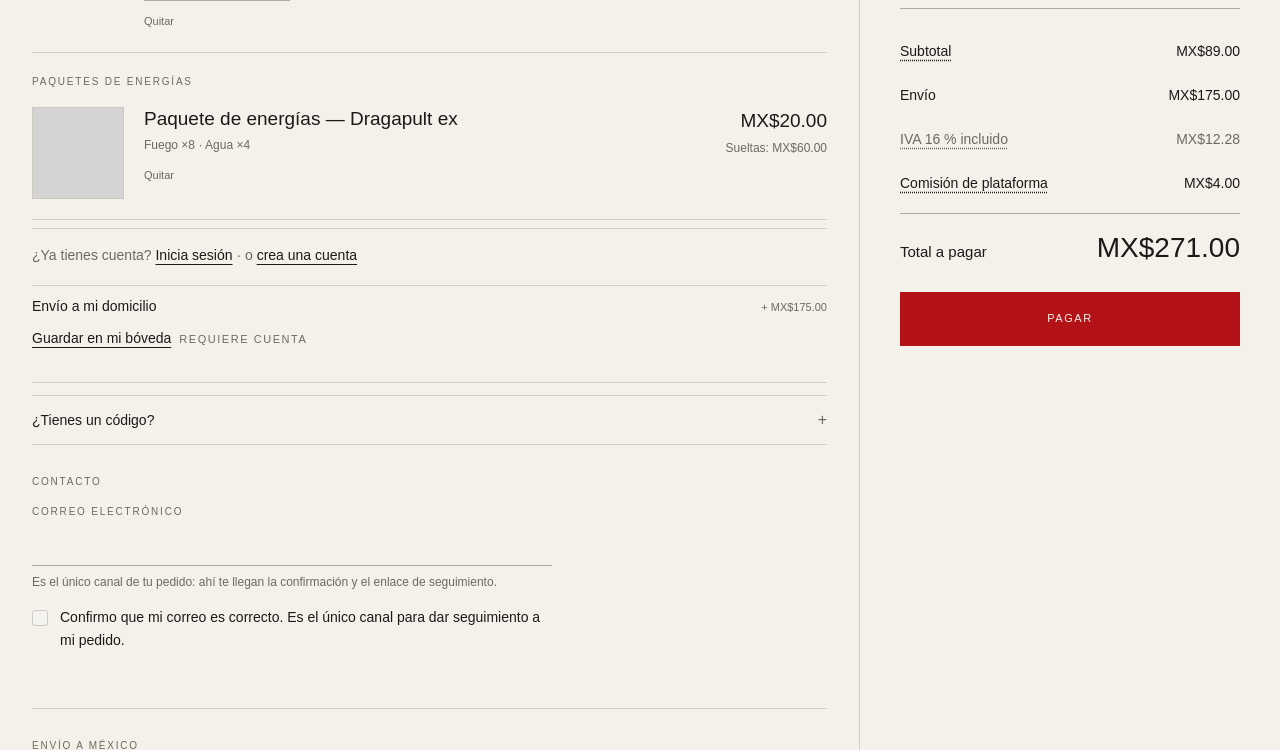
Test: AC-UX-9 (AC-F8) · bóveda con accesorios › vaultExcludesAccessories ⇒ aviso con {n} y {amount} de la cotización; los accesorios se quedan en el carrito
The image size is (1280, 750).
(page scrolled)
Click the button "Guardar en mi bóveda REQUIERE CUENTA".
click(102, 338)  # box [32,328,827,372]
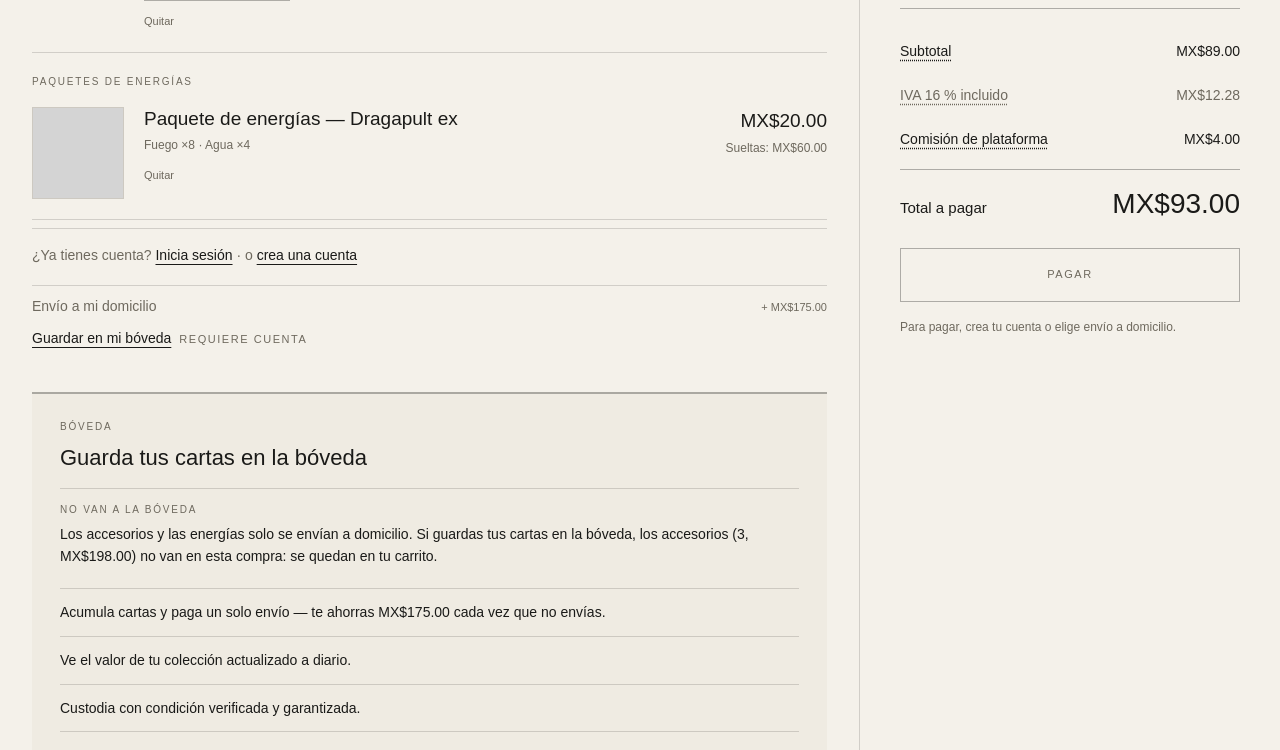
Expected: the text "NO VAN A LA BÓVEDA" is shown, [60,504,197,514]
